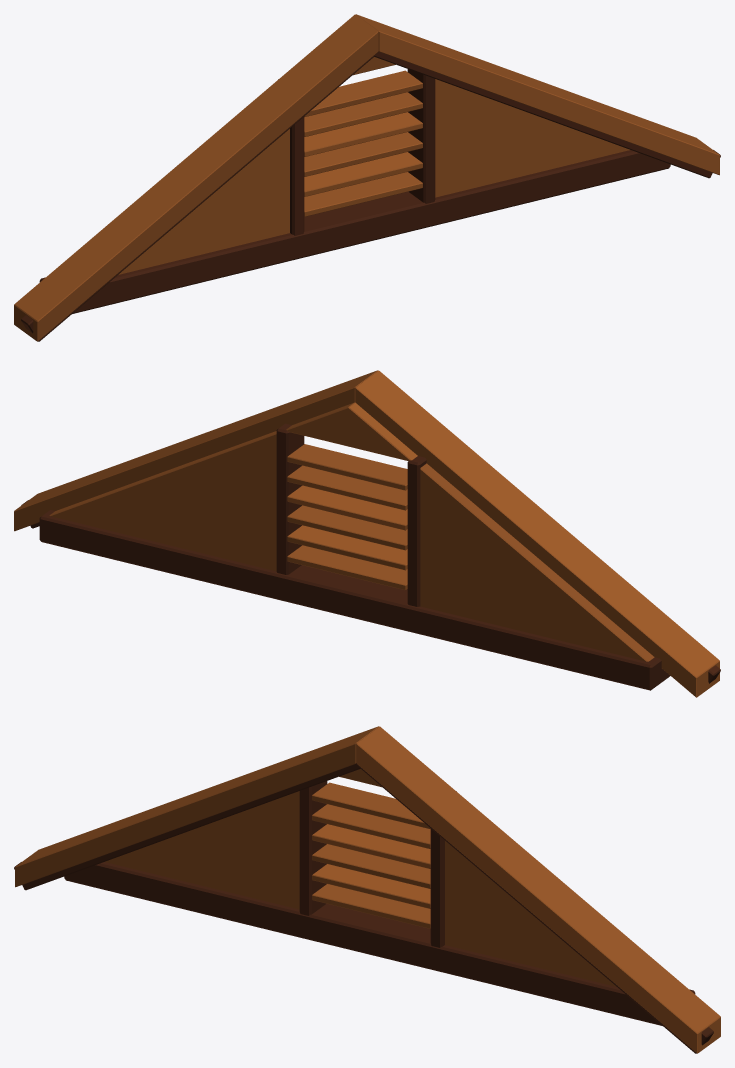
File: EH_GableVent_4m.fbx
3 renders of one model, top to bottom at view 1: azimuth 30°, elevation 25°; view 2: azimuth 150°, elevation 25°; view 3: azimuth 330°, elevation 25°, orthographic.
Parts seen in each view (by area): view 1: EH_GableVent_4m; view 2: EH_GableVent_4m; view 3: EH_GableVent_4m.
Boxes of the visible parts, bbox=[...] form: EH_GableVent_4m: bbox=[14, 14, 720, 341]; EH_GableVent_4m: bbox=[14, 370, 720, 697]; EH_GableVent_4m: bbox=[14, 726, 720, 1053].
Bounding box in the file's own units: 4.55 × 1.45 × 0.385.
